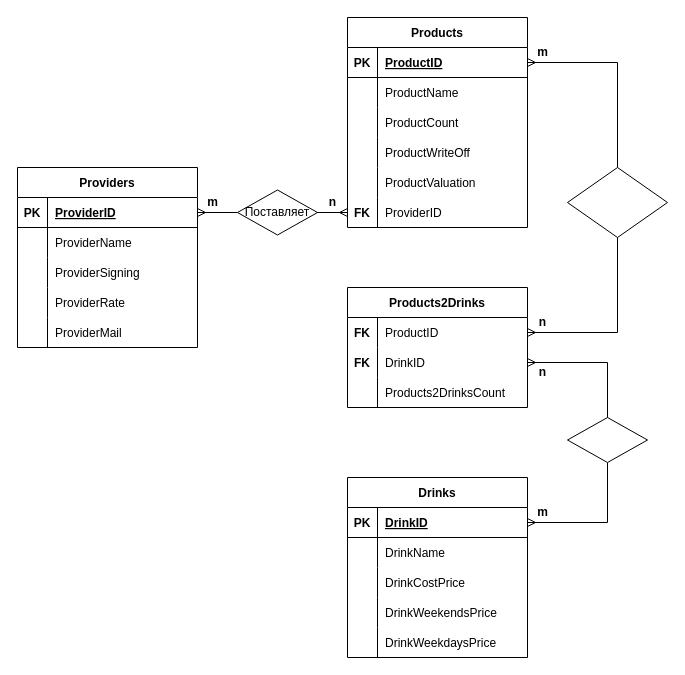
The diagram is 685 pixels wide and 675 high, and some of its shapes have lost their labels. Here are the shapes that lost their labels. From the top down, the centre of each, then its label:
At point (617, 202): "Включаются в".
At point (607, 439): "Состоит из".
